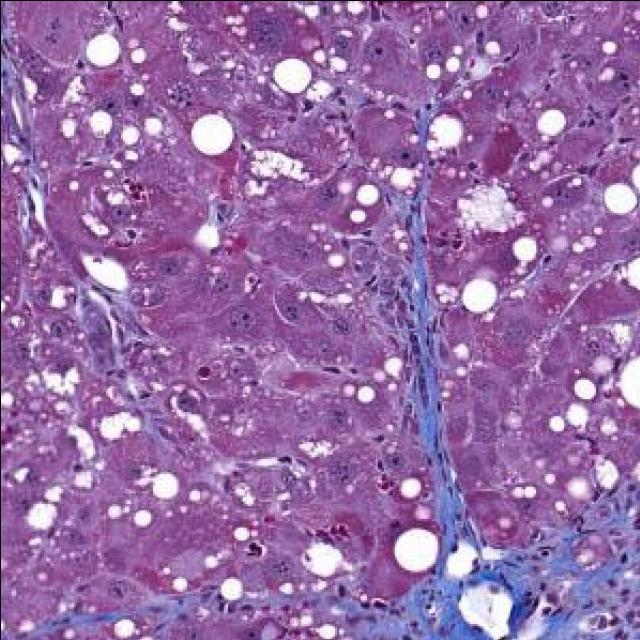fibrosis: (366, 483, 640, 640), (408, 106, 468, 636)
